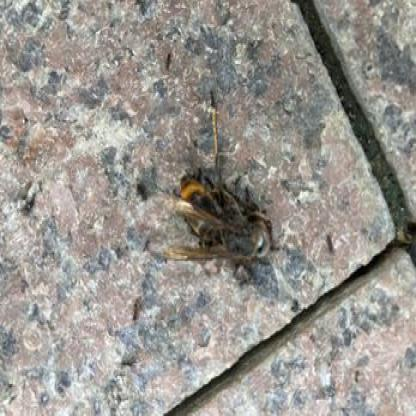Asian Hornet: (158, 93, 280, 289)
